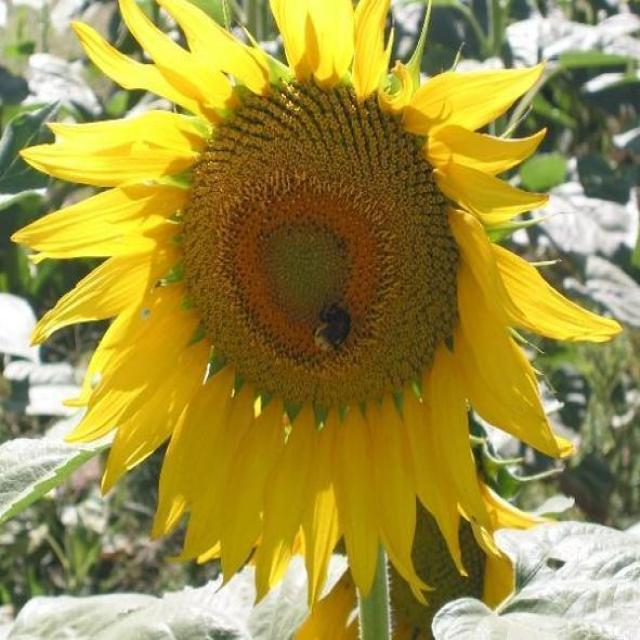sunflower: (0, 0, 634, 631)
